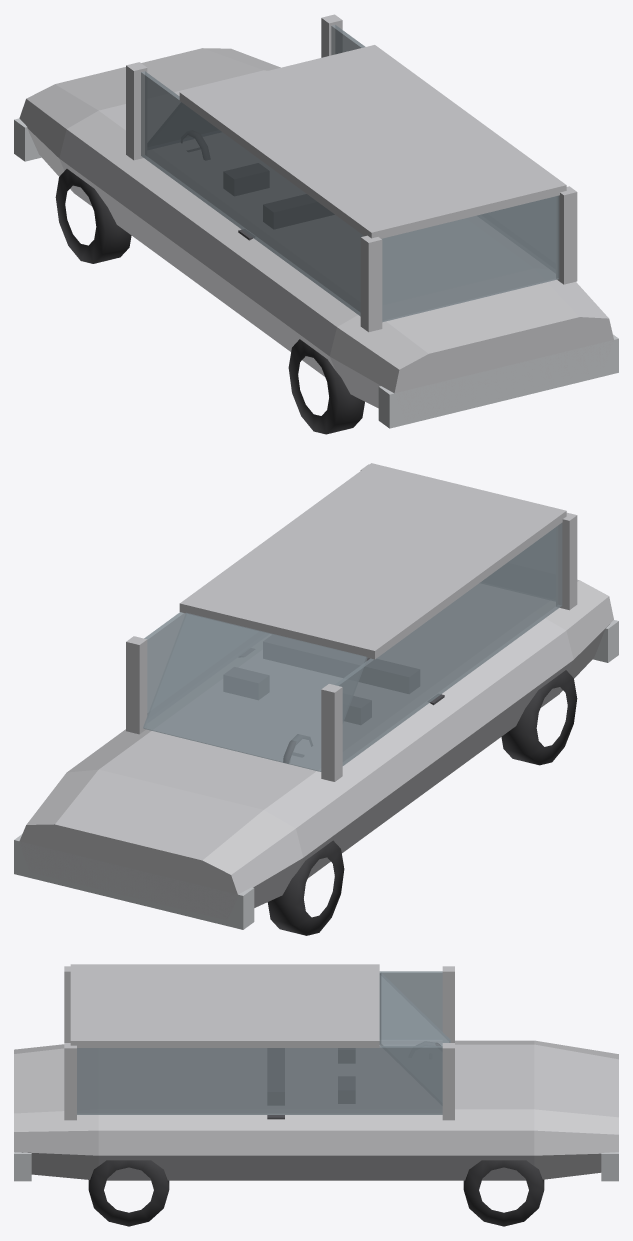
File: estate.glb
3 views of the same model, one above another, from view 1: azimuth 30°, elevation 25°; view 2: azimuth 150°, elevation 25°; view 3: azimuth 270°, elevation 25° (orthographic). The views are drawn at different scales.
Visible parts, largest first — view 1: body, glass, body_trim, wheels, seats; view 2: body, glass, body_trim, wheels, seats; view 3: body, glass, wheels, seats, body_trim.
Part boxes in pixels (x1,y1,x2,y2): body: (19, 14, 613, 421); glass: (141, 24, 559, 322); body_trim: (14, 118, 618, 428); wheels: (55, 169, 364, 434); seats: (224, 163, 333, 240); body: (19, 463, 613, 920); glass: (143, 523, 562, 771); body_trim: (14, 620, 618, 929); wheels: (267, 670, 577, 935); seats: (224, 635, 444, 724); body: (14, 964, 618, 1180); glass: (77, 971, 450, 1114); wheels: (88, 1160, 544, 1226); seats: (267, 1048, 354, 1119); body_trim: (14, 1152, 618, 1181).
Bounding box in the file's own units: 1.8 × 1.55 × 4.8.
